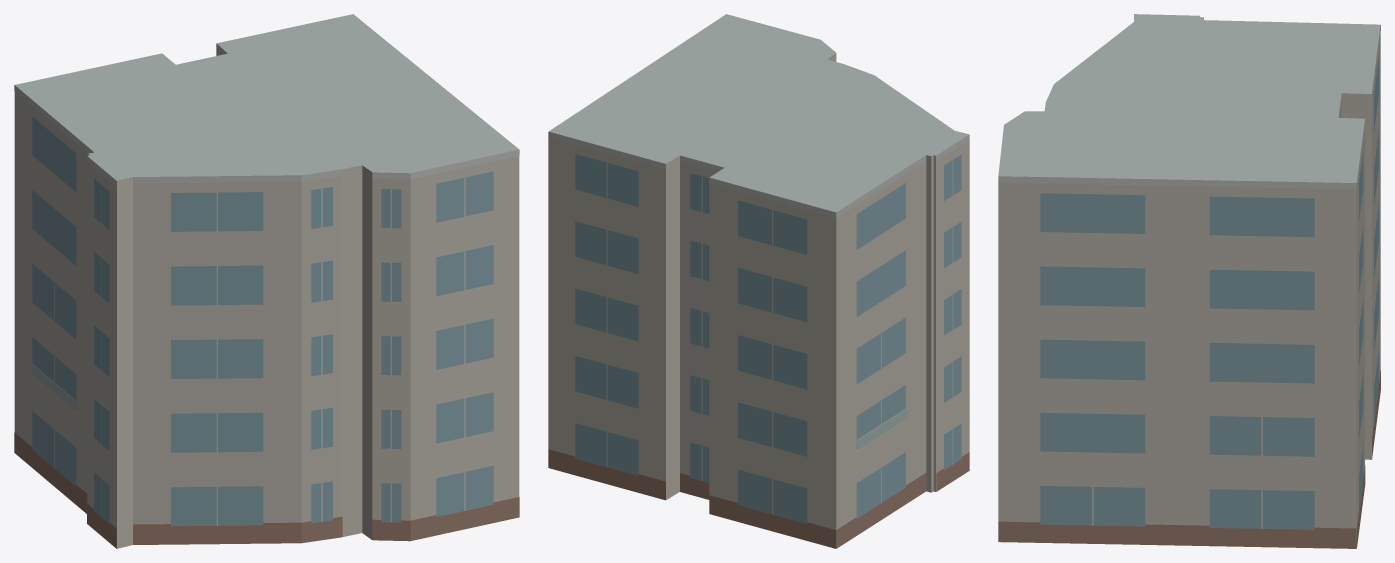
The model's file is survey-upis-32662395.glb.
3 views of the same model, side by side, from view 1: azimuth 30°, elevation 25°; view 2: azimuth 150°, elevation 25°; view 3: azimuth 270°, elevation 25° (orthographic). The views are drawn at different scales.
Parts seen in each view (by area): view 1: survey-upis-32662395.tmp; view 2: survey-upis-32662395.tmp; view 3: survey-upis-32662395.tmp.
Part boxes in pixels (<box>): survey-upis-32662395.tmp: <box>14,14,519,548</box>; survey-upis-32662395.tmp: <box>548,14,969,548</box>; survey-upis-32662395.tmp: <box>998,14,1380,548</box>.
Bounding box in the file's own units: 14.18 × 14.3 × 13.56.
